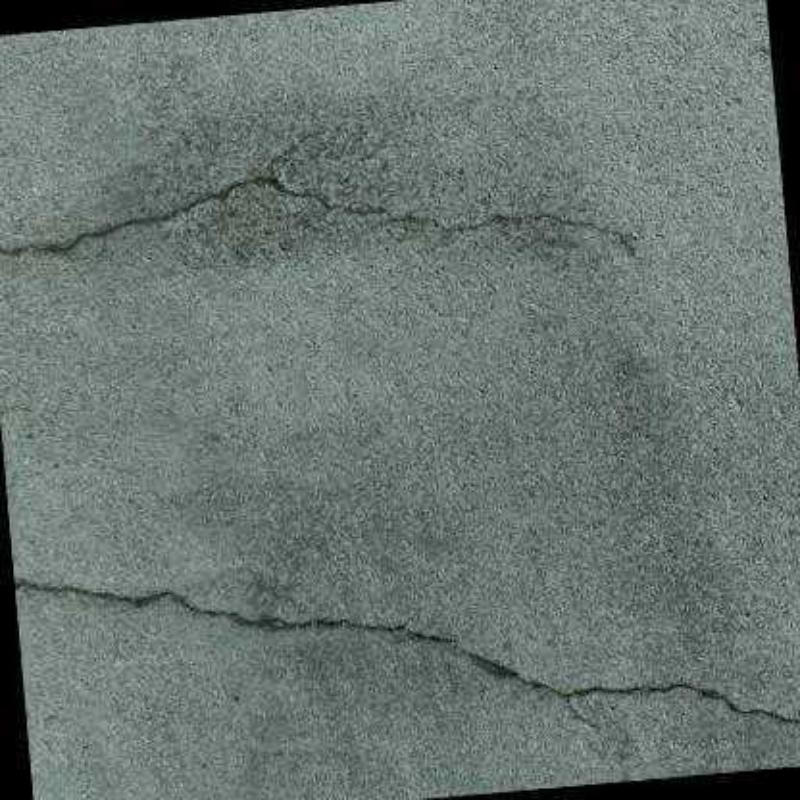pothole: (14, 578, 800, 724), (0, 175, 633, 255)
